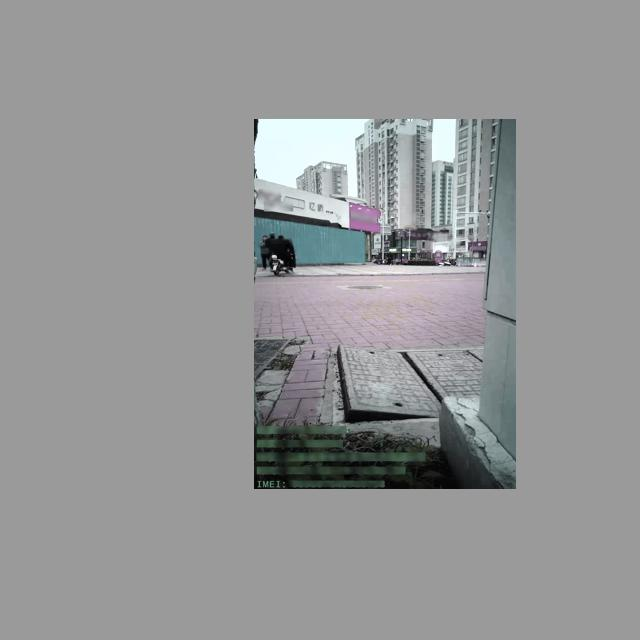uncovered: (329, 342, 481, 428)
